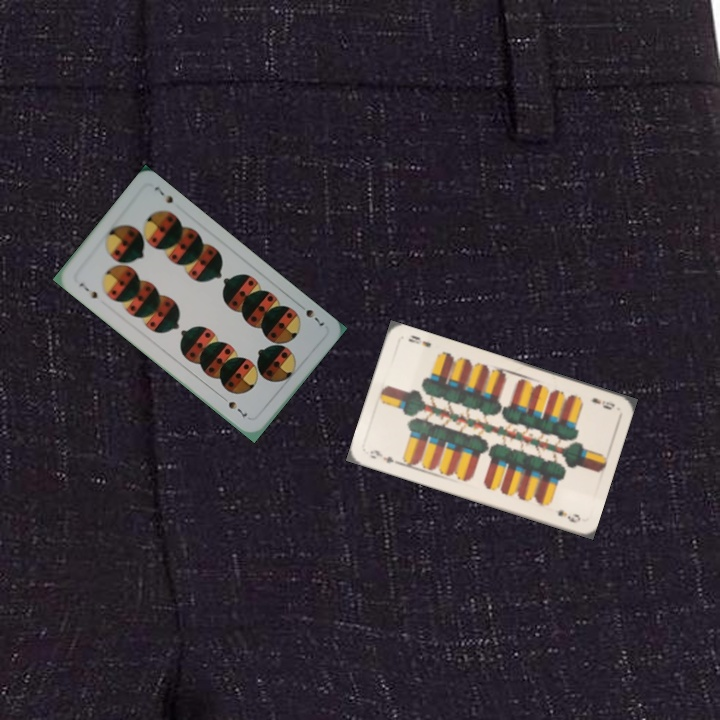E9: (366, 446, 403, 467), (587, 393, 617, 413)
S7: (294, 300, 327, 330), (75, 279, 100, 302)
